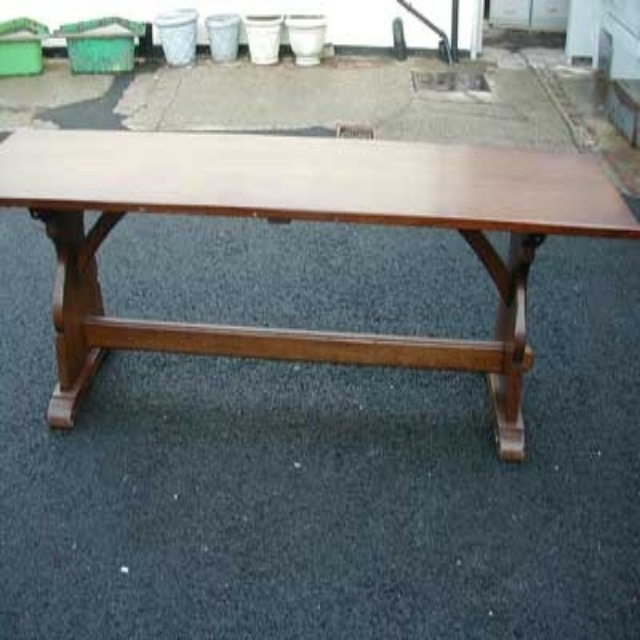obstacle: (0, 130, 638, 459)
